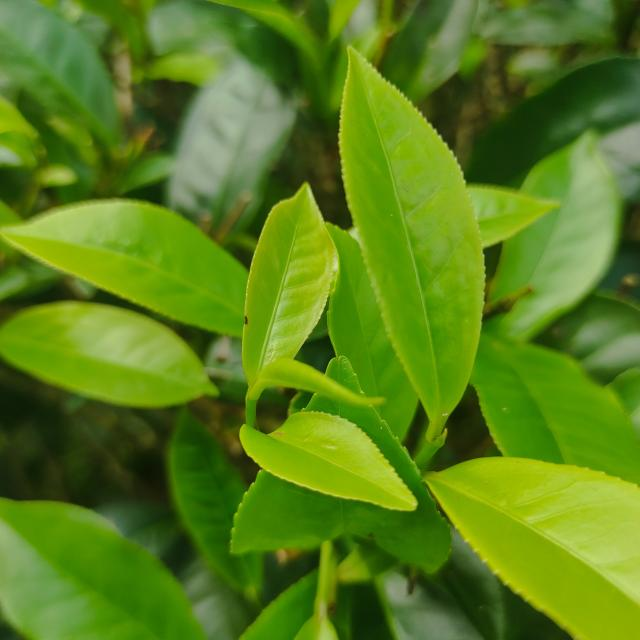unopened_leaf: (240, 351, 393, 412)
